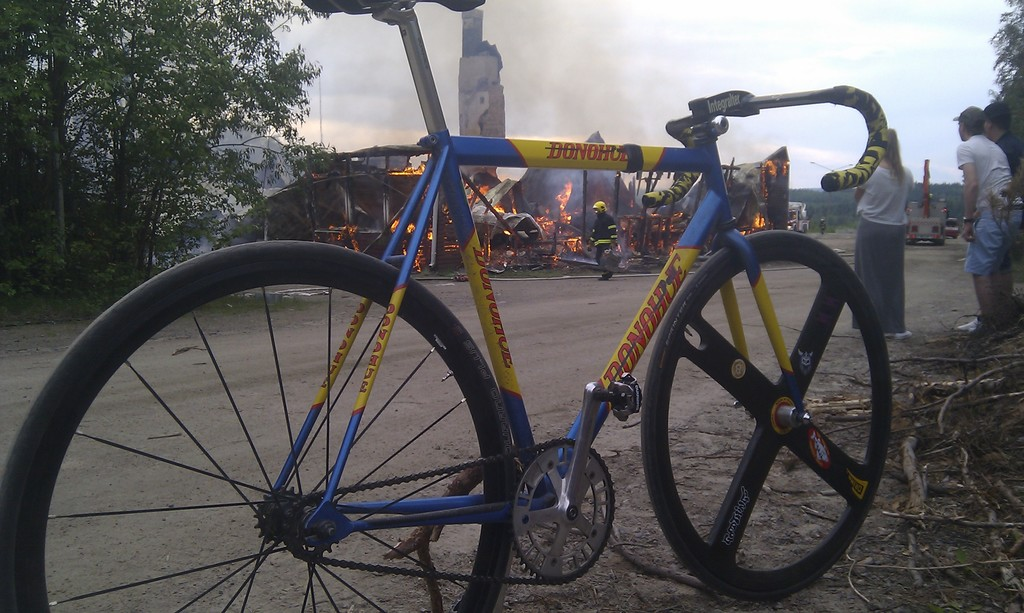Bike: (23, 7, 900, 587)
